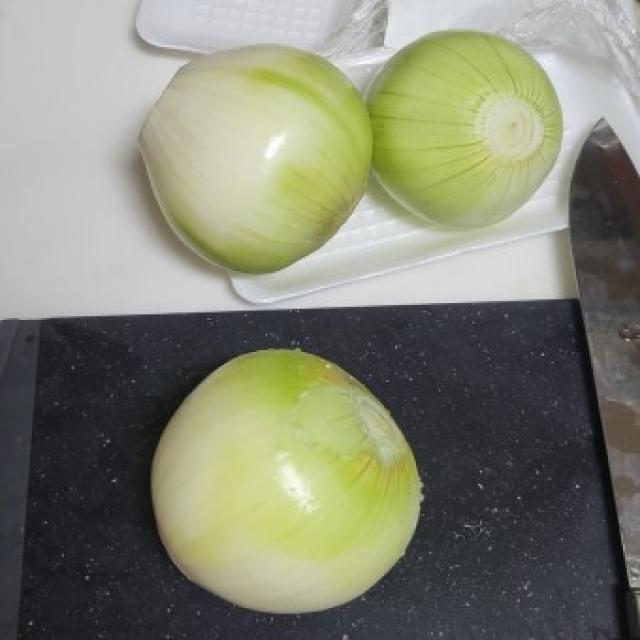onion: (138, 334, 456, 636), (121, 35, 375, 275), (379, 34, 566, 230)
